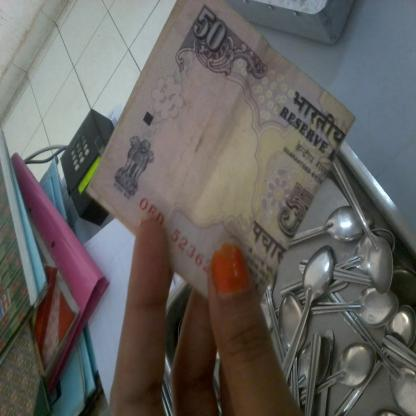Old50Front: (86, 0, 357, 307)
